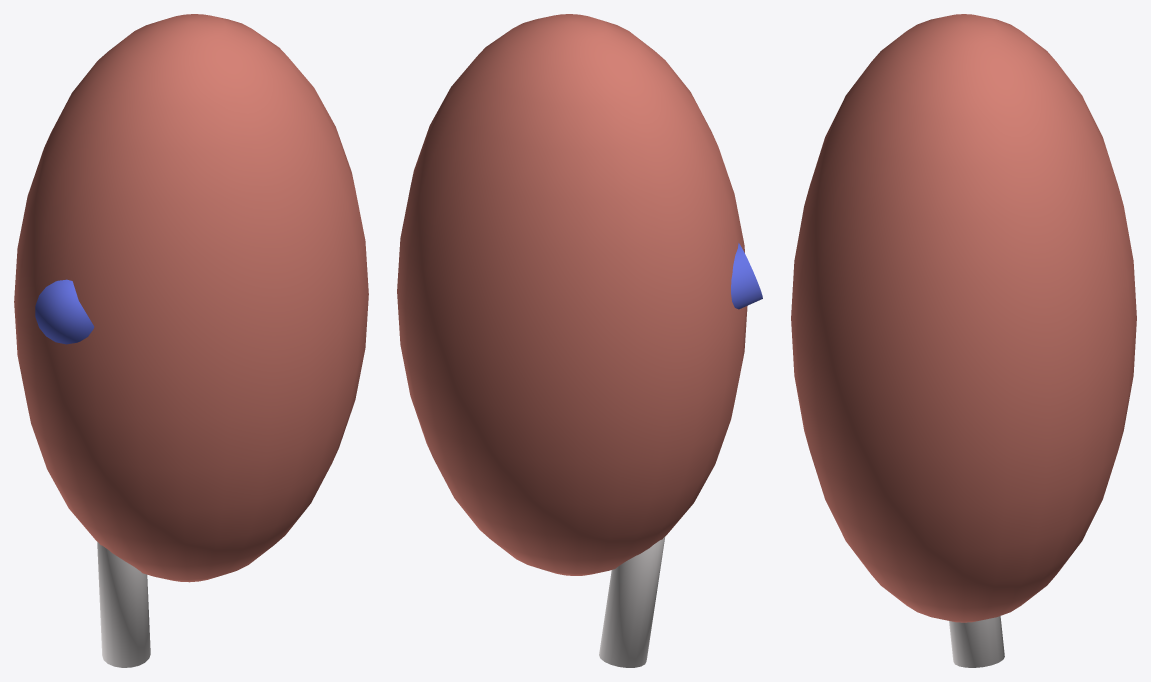
File: kidney.glb
The picture shows the model from 3 angles, left to right: view 1: azimuth 30°, elevation 25°; view 2: azimuth 150°, elevation 25°; view 3: azimuth 270°, elevation 25°; orthographic projection. The views are drawn at different scales.
Visible parts, largest first — view 1: cortex, ureter, vein; view 2: cortex, ureter, vein; view 3: cortex, ureter.
Part boxes in pixels (x1,y1,x2,y2): cortex: (14, 14, 368, 582); ureter: (97, 542, 150, 667); vein: (35, 279, 94, 344); cortex: (397, 14, 747, 575); ureter: (599, 536, 665, 667); vein: (731, 243, 762, 309); cortex: (791, 14, 1136, 622); ureter: (949, 616, 1004, 667).
Bounding box in the file's own units: 0.9429 × 1.7 × 0.8.
